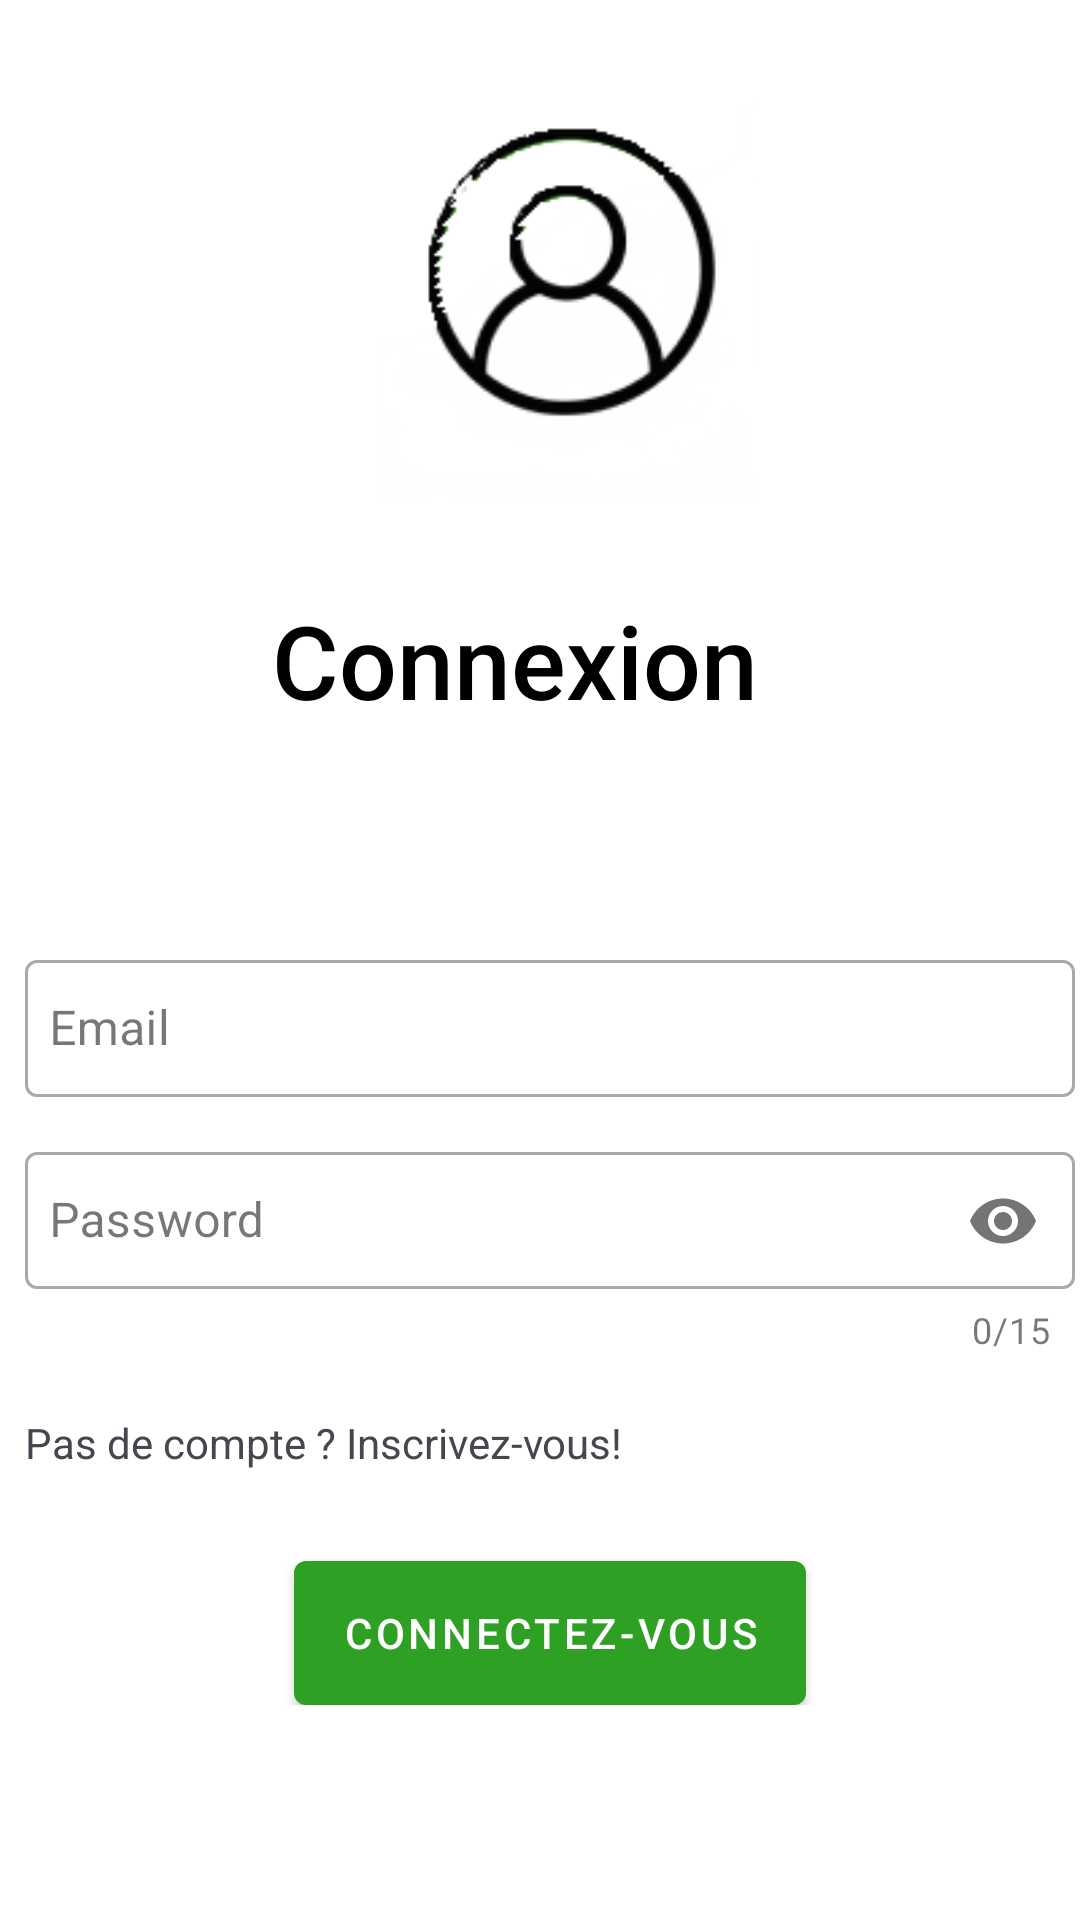

Named icons in this screenshot (1080 × 1920) and their bounding boxes, rect(x1, y1, x2, y2):
user: rect(428, 128, 716, 416)
